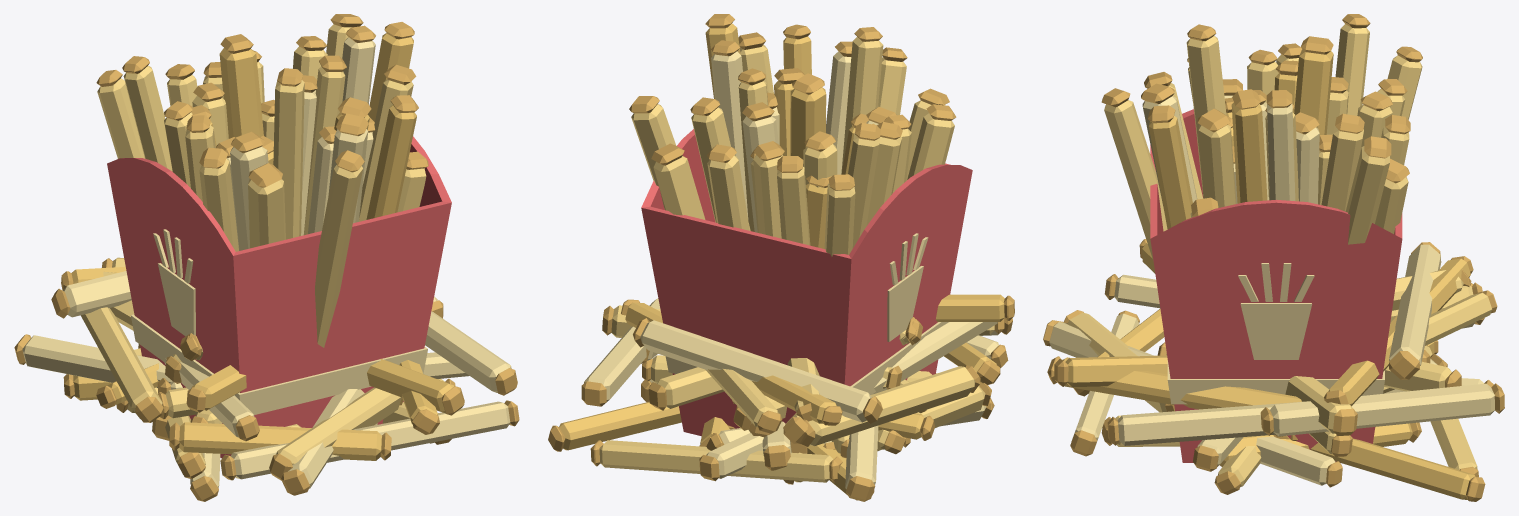
File: papas_fritas.glb
The picture shows the model from 3 angles, left to right: view 1: azimuth 30°, elevation 25°; view 2: azimuth 150°, elevation 25°; view 3: azimuth 270°, elevation 25°; orthographic projection. The views are drawn at different scales.
Visible parts, largest first — view 1: caja_papas_caja_roja, papas_caja_papa_frita, papas_canasta_papa_frita_clara, papas_caja_papa_frita_punta, papas_canasta_papa_frita_dorada, papas_canasta_papa_frita_punta, papas_caja_papa_frita_dorada, papas_canasta_papa_frita, papas_caja_papa_frita_clara, caja_papas_caja_amarilla, papas_sueltas_papa_frita_punta, papas_sueltas_papa_frita; view 2: caja_papas_caja_roja, papas_caja_papa_frita, papas_canasta_papa_frita, papas_canasta_papa_frita_clara, papas_canasta_papa_frita_punta, papas_canasta_papa_frita_dorada, papas_caja_papa_frita_punta, papas_caja_papa_frita_dorada, papas_caja_papa_frita_clara, caja_papas_caja_amarilla, caja_papas_caja_adentro, papas_sueltas_papa_frita_punta; view 3: caja_papas_caja_roja, papas_caja_papa_frita, papas_canasta_papa_frita_clara, papas_canasta_papa_frita_dorada, papas_caja_papa_frita_punta, papas_canasta_papa_frita, papas_caja_papa_frita_dorada, papas_canasta_papa_frita_punta, caja_papas_caja_amarilla, papas_caja_papa_frita_clara, caja_papas_caja_adentro.
Boxes of the visible parts, left/top/right/bottom form: caja_papas_caja_roja: left=107, top=136, right=451, bottom=458; papas_caja_papa_frita: left=97, top=24, right=426, bottom=347; papas_canasta_papa_frita_clara: left=22, top=271, right=511, bottom=488; papas_caja_papa_frita_punta: left=96, top=14, right=428, bottom=187; papas_canasta_papa_frita_dorada: left=71, top=267, right=453, bottom=460; papas_canasta_papa_frita_punta: left=14, top=258, right=519, bottom=501; papas_caja_papa_frita_dorada: left=210, top=33, right=416, bottom=219; papas_canasta_papa_frita: left=80, top=257, right=444, bottom=474; papas_caja_papa_frita_clara: left=226, top=37, right=375, bottom=250; caja_papas_caja_amarilla: left=131, top=229, right=427, bottom=414; papas_sueltas_papa_frita_punta: left=152, top=335, right=198, bottom=440; papas_sueltas_papa_frita: left=137, top=345, right=301, bottom=427; caja_papas_caja_roja: left=641, top=129, right=972, bottom=436; papas_caja_papa_frita: left=631, top=37, right=954, bottom=256; papas_canasta_papa_frita: left=599, top=305, right=994, bottom=482; papas_canasta_papa_frita_clara: left=584, top=298, right=998, bottom=488; papas_canasta_papa_frita_punta: left=548, top=295, right=1014, bottom=501; papas_canasta_papa_frita_dorada: left=559, top=294, right=1004, bottom=495; papas_caja_papa_frita_punta: left=629, top=14, right=956, bottom=190; papas_caja_papa_frita_dorada: left=705, top=23, right=855, bottom=248; papas_caja_papa_frita_clara: left=711, top=51, right=878, bottom=232; caja_papas_caja_amarilla: left=665, top=233, right=946, bottom=394; caja_papas_caja_adentro: left=650, top=135, right=715, bottom=222; papas_sueltas_papa_frita_punta: left=749, top=319, right=926, bottom=458; caja_papas_caja_roja: left=1150, top=109, right=1402, bottom=462; papas_caja_papa_frita: left=1104, top=24, right=1422, bottom=261; papas_canasta_papa_frita_clara: left=1049, top=244, right=1494, bottom=485; papas_canasta_papa_frita_dorada: left=1063, top=243, right=1475, bottom=499; papas_caja_papa_frita_punta: left=1101, top=14, right=1422, bottom=216; papas_canasta_papa_frita: left=1067, top=270, right=1492, bottom=487; papas_caja_papa_frita_dorada: left=1148, top=49, right=1333, bottom=228; papas_canasta_papa_frita_punta: left=1043, top=239, right=1504, bottom=501; caja_papas_caja_amarilla: left=1167, top=263, right=1384, bottom=404; papas_caja_papa_frita_clara: left=1142, top=95, right=1319, bottom=204; caja_papas_caja_adentro: left=1157, top=114, right=1395, bottom=234.
Size of the model in its own units: 0.1705 by 0.1845 by 0.197.
